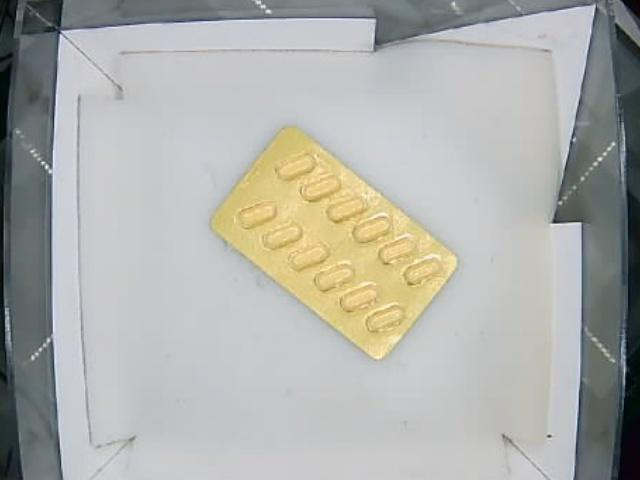Medicine: (205, 127, 460, 361)
